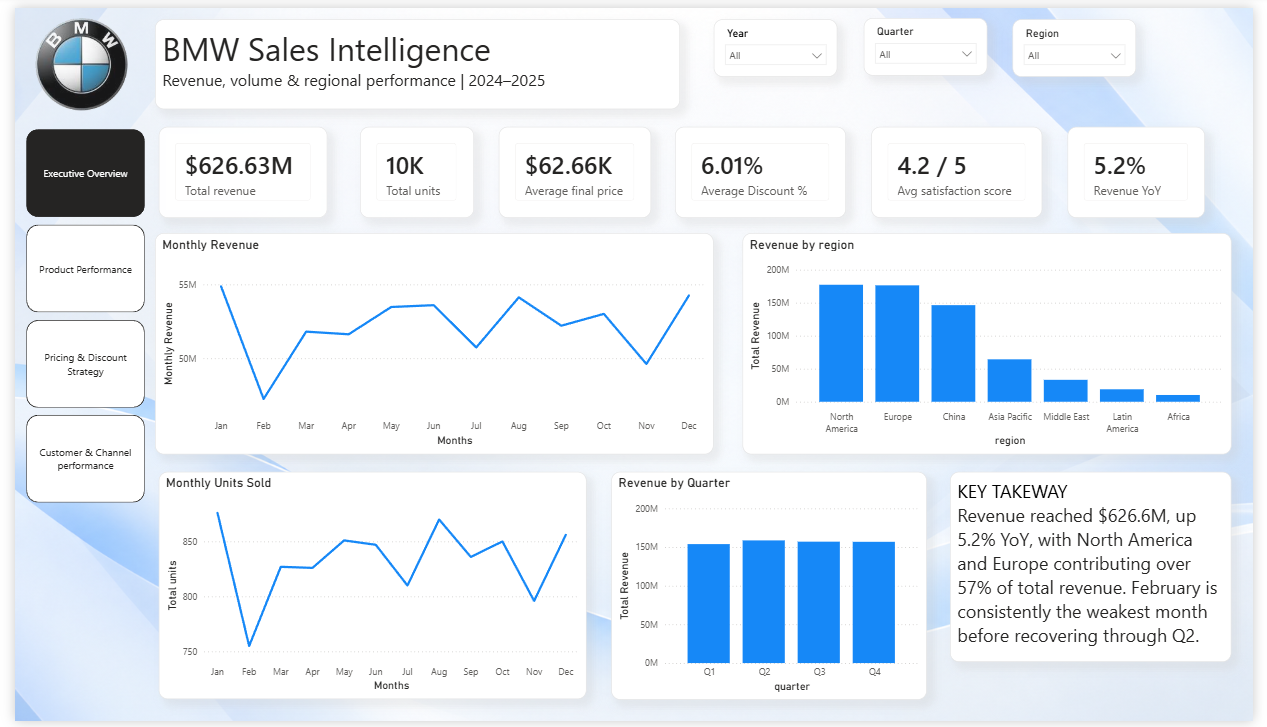

Layout of this report page (visuals, bound fields, positions):
{"tool":"powerbi","page":{"name":"Executive Overview","canvas":[1650,950],"ordinal":0},"visuals":[{"type":"image","box":[0,0,1651,951],"z":0},{"type":"cardVisual","fields":{"Data":["public factsales.Total revenue"]},"box":[191.7,158.3,225,121.7],"z":1000},{"type":"cardVisual","fields":{"Data":["public dimcustomer.Total units"]},"box":[459.7,158.3,151.7,121.7],"z":2000},{"type":"cardVisual","fields":{"Data":["public factsales.Average final price"]},"box":[644.3,158.3,203.3,121.7],"z":3000},{"type":"cardVisual","fields":{"Data":["public factsales.Avg Discount %"]},"box":[880.7,158.3,228.3,121.7],"z":4000},{"type":"cardVisual","title":"Average Satisfaction score","fields":{"Data":["public factsales.avg satisfaction score"]},"box":[1142,158.3,228.3,121.7],"z":5000},{"type":"cardVisual","fields":{"Data":["public factsales.Revenue YoY %"]},"box":[1403.3,158.3,183.3,121.7],"z":6000},{"type":"lineChart","title":"Monthly Revenue","fields":{"Category":["public dimdate.month_name"],"Y":["Sum(public factsales.final_sale_price_usd)"]},"box":[186.7,300,745,295],"z":7000},{"type":"slicer","fields":{"Values":["public dimdate.year"]},"box":[931.7,15,165,77],"z":8000},{"type":"columnChart","title":"Revenue by region","fields":{"Category":["public dimregion.region"],"Y":["Sum(public factsales.final_sale_price_usd)"]},"box":[970,300,651.7,295],"z":9000},{"type":"columnChart","title":"Revenue by Quarter","fields":{"Category":["public dimdate.quarter"],"Y":["Sum(public factsales.final_sale_price_usd)"]},"box":[795,618.3,420.4,304.1],"z":10000},{"type":"slicer","fields":{"Values":["public dimdate.quarter"]},"box":[1131.7,13.3,165,77],"z":11000},{"type":"image","box":[15,13.3,147.1,122.9],"z":12000},{"type":"slicer","fields":{"Values":["public dimregion.region"]},"box":[1330,15,165,77],"z":13000},{"type":"textbox","box":[1246.7,618.3,375,253.3],"z":14000},{"type":"textbox","box":[186.7,15,700,120],"z":15000},{"type":"pageNavigator","box":[15,161.7,158.3,500],"z":16000},{"type":"lineChart","title":"Monthly Units Sold","fields":{"Category":["public dimdate.month_name"],"Y":["public dimcustomer.Total units"]},"box":[191.8,618.4,570,303.3],"z":17000}]}

Visuals, with their boxes in screenshot pixels (x1, y1, x2, y2), scaled from the page's 1650x950 canvas onto the 1267x727 screenshot:
image: (0, 0, 1266, 726)
cardVisual - public factsales.Total revenue: (147, 121, 320, 214)
cardVisual - public dimcustomer.Total units: (353, 121, 469, 214)
cardVisual - public factsales.Average final price: (495, 121, 651, 214)
cardVisual - public factsales.Avg Discount %: (676, 121, 852, 214)
"Average Satisfaction score" cardVisual: (877, 121, 1052, 214)
cardVisual - public factsales.Revenue YoY %: (1078, 121, 1218, 214)
"Monthly Revenue" lineChart: (143, 230, 715, 455)
slicer - public dimdate.year: (715, 11, 842, 70)
"Revenue by region" columnChart: (745, 230, 1245, 455)
"Revenue by Quarter" columnChart: (610, 473, 933, 706)
slicer - public dimdate.quarter: (869, 10, 996, 69)
image: (12, 10, 124, 104)
slicer - public dimregion.region: (1021, 11, 1148, 70)
textbox: (957, 473, 1245, 667)
textbox: (143, 11, 681, 103)
pageNavigator: (12, 124, 133, 506)
"Monthly Units Sold" lineChart: (147, 473, 585, 705)
